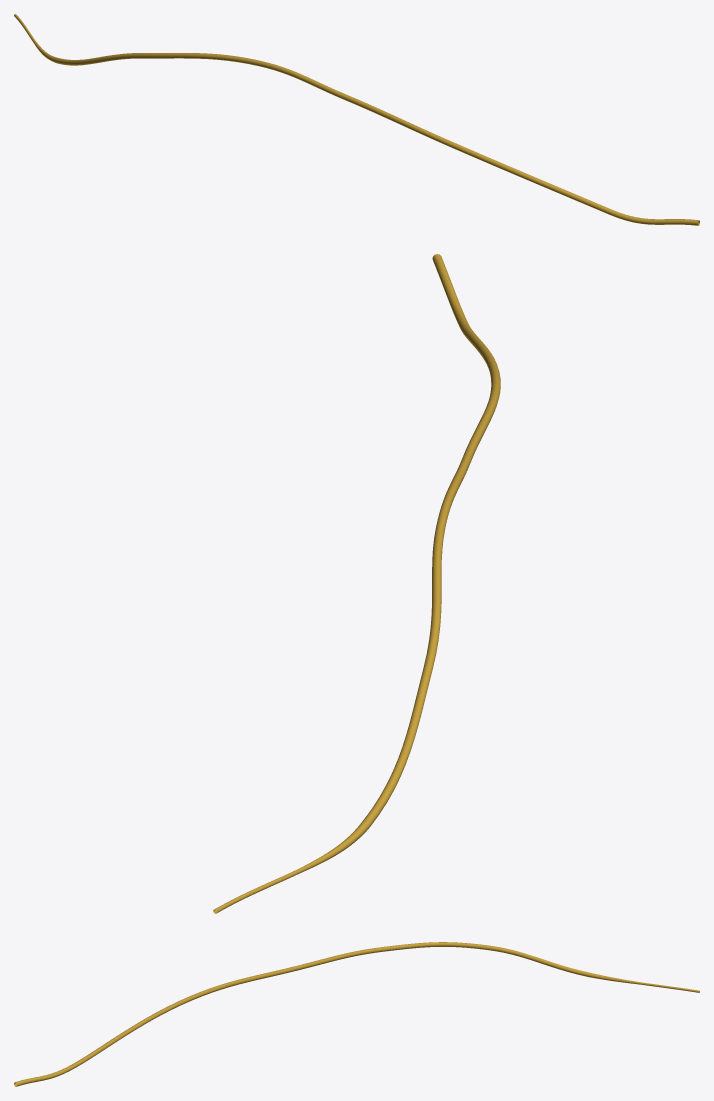
The picture shows the model from 3 angles, top to bottom: view 1: azimuth 30°, elevation 25°; view 2: azimuth 150°, elevation 25°; view 3: azimuth 270°, elevation 25°; orthographic projection. The views are drawn at different scales.
Visible parts, largest first — view 1: 右侧桡神经; view 2: 右侧桡神经; view 3: 右侧桡神经.
Part boxes in pixels (x1=…): 右侧桡神经: x1=14, y1=14, x2=699, y2=225; 右侧桡神经: x1=213, y1=254, x2=500, y2=913; 右侧桡神经: x1=14, y1=942, x2=699, y2=1086.
Size of the model in its own units: 0.1818 by 0.0468 by 0.4245.
